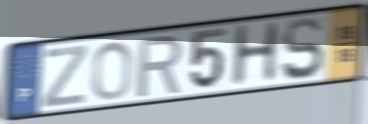5: (189, 27, 230, 92)
H: (228, 19, 283, 91)
O: (90, 39, 135, 102)
R: (135, 33, 185, 100)
S: (280, 15, 326, 83)
Z: (40, 42, 90, 110)
